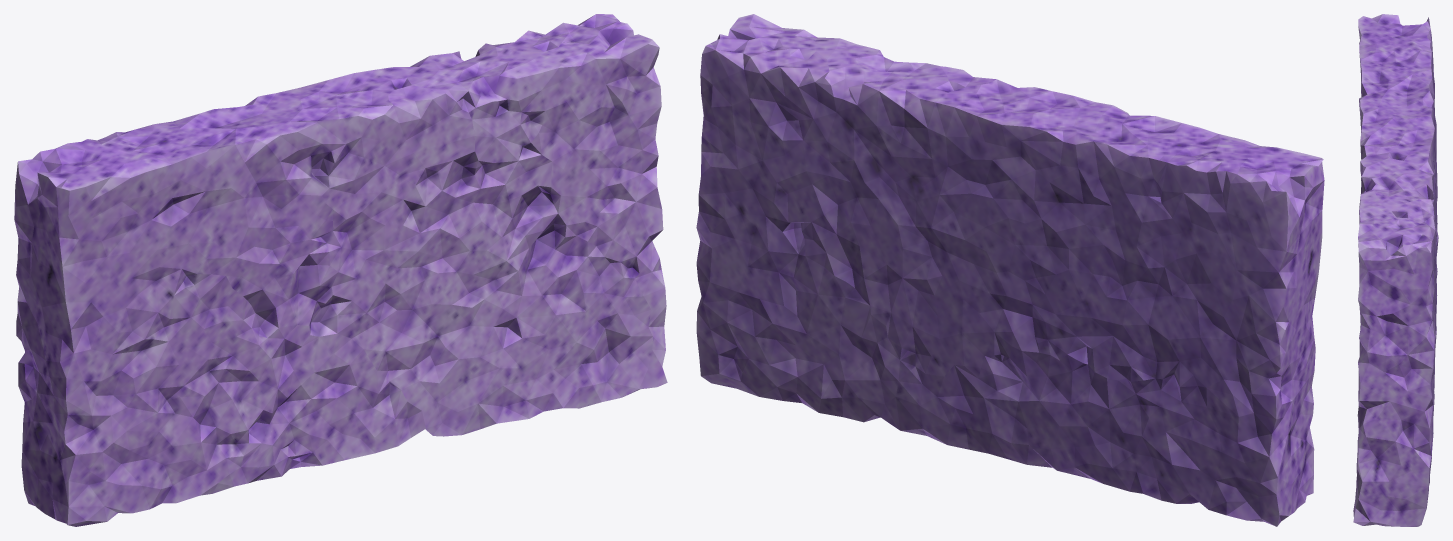
The picture shows the model from 3 angles, left to right: view 1: azimuth 30°, elevation 25°; view 2: azimuth 150°, elevation 25°; view 3: azimuth 270°, elevation 25°; orthographic projection. The views are drawn at different scales.
Bounding box in the file's own units: 0.1262 × 0.0698 × 0.0191.
1 material, 1 textured.
